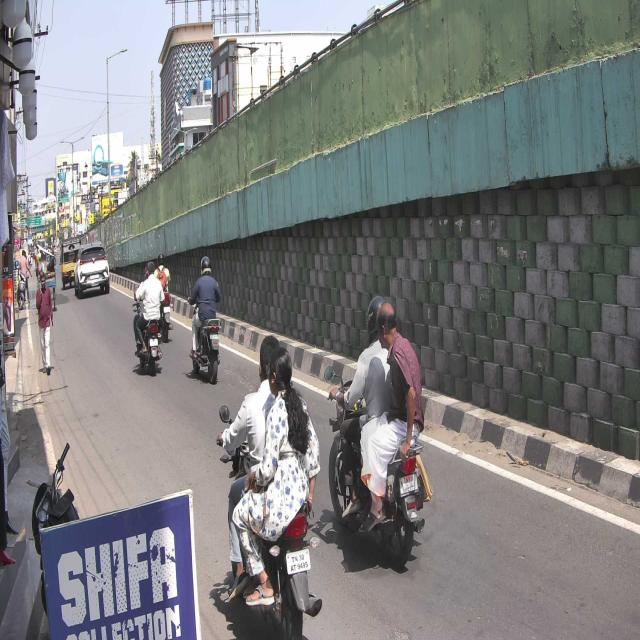double_rider: (219, 332, 321, 640), (324, 290, 428, 570)
single_rider: (185, 254, 223, 386)
